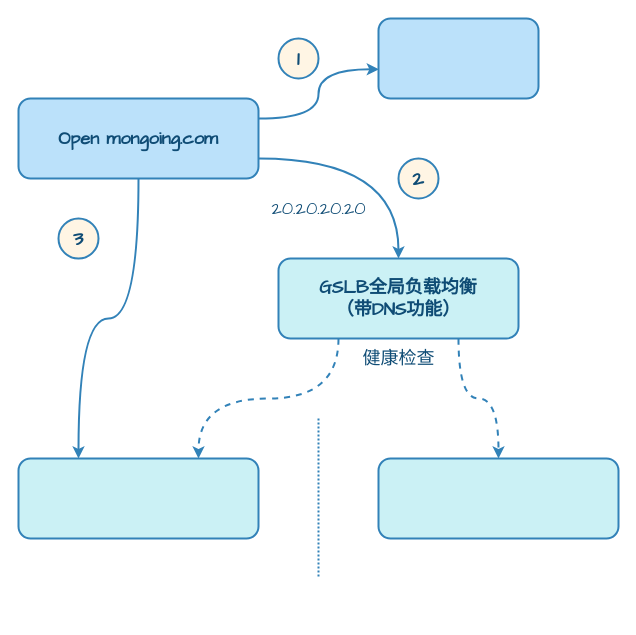
Image size: 636x635. Some labels were removed from this diagram. The centre of each missing label's shape, as x and y in pixels:
SLB / 本地负载均衡 dc1.web.mongoing.com 20.20.20.20: the point at 138,498
SLB /本地负载均衡 dc2.web.mongoing.com 30.30.30.30: the point at 498,498
本地 DNS: the point at 458,58
